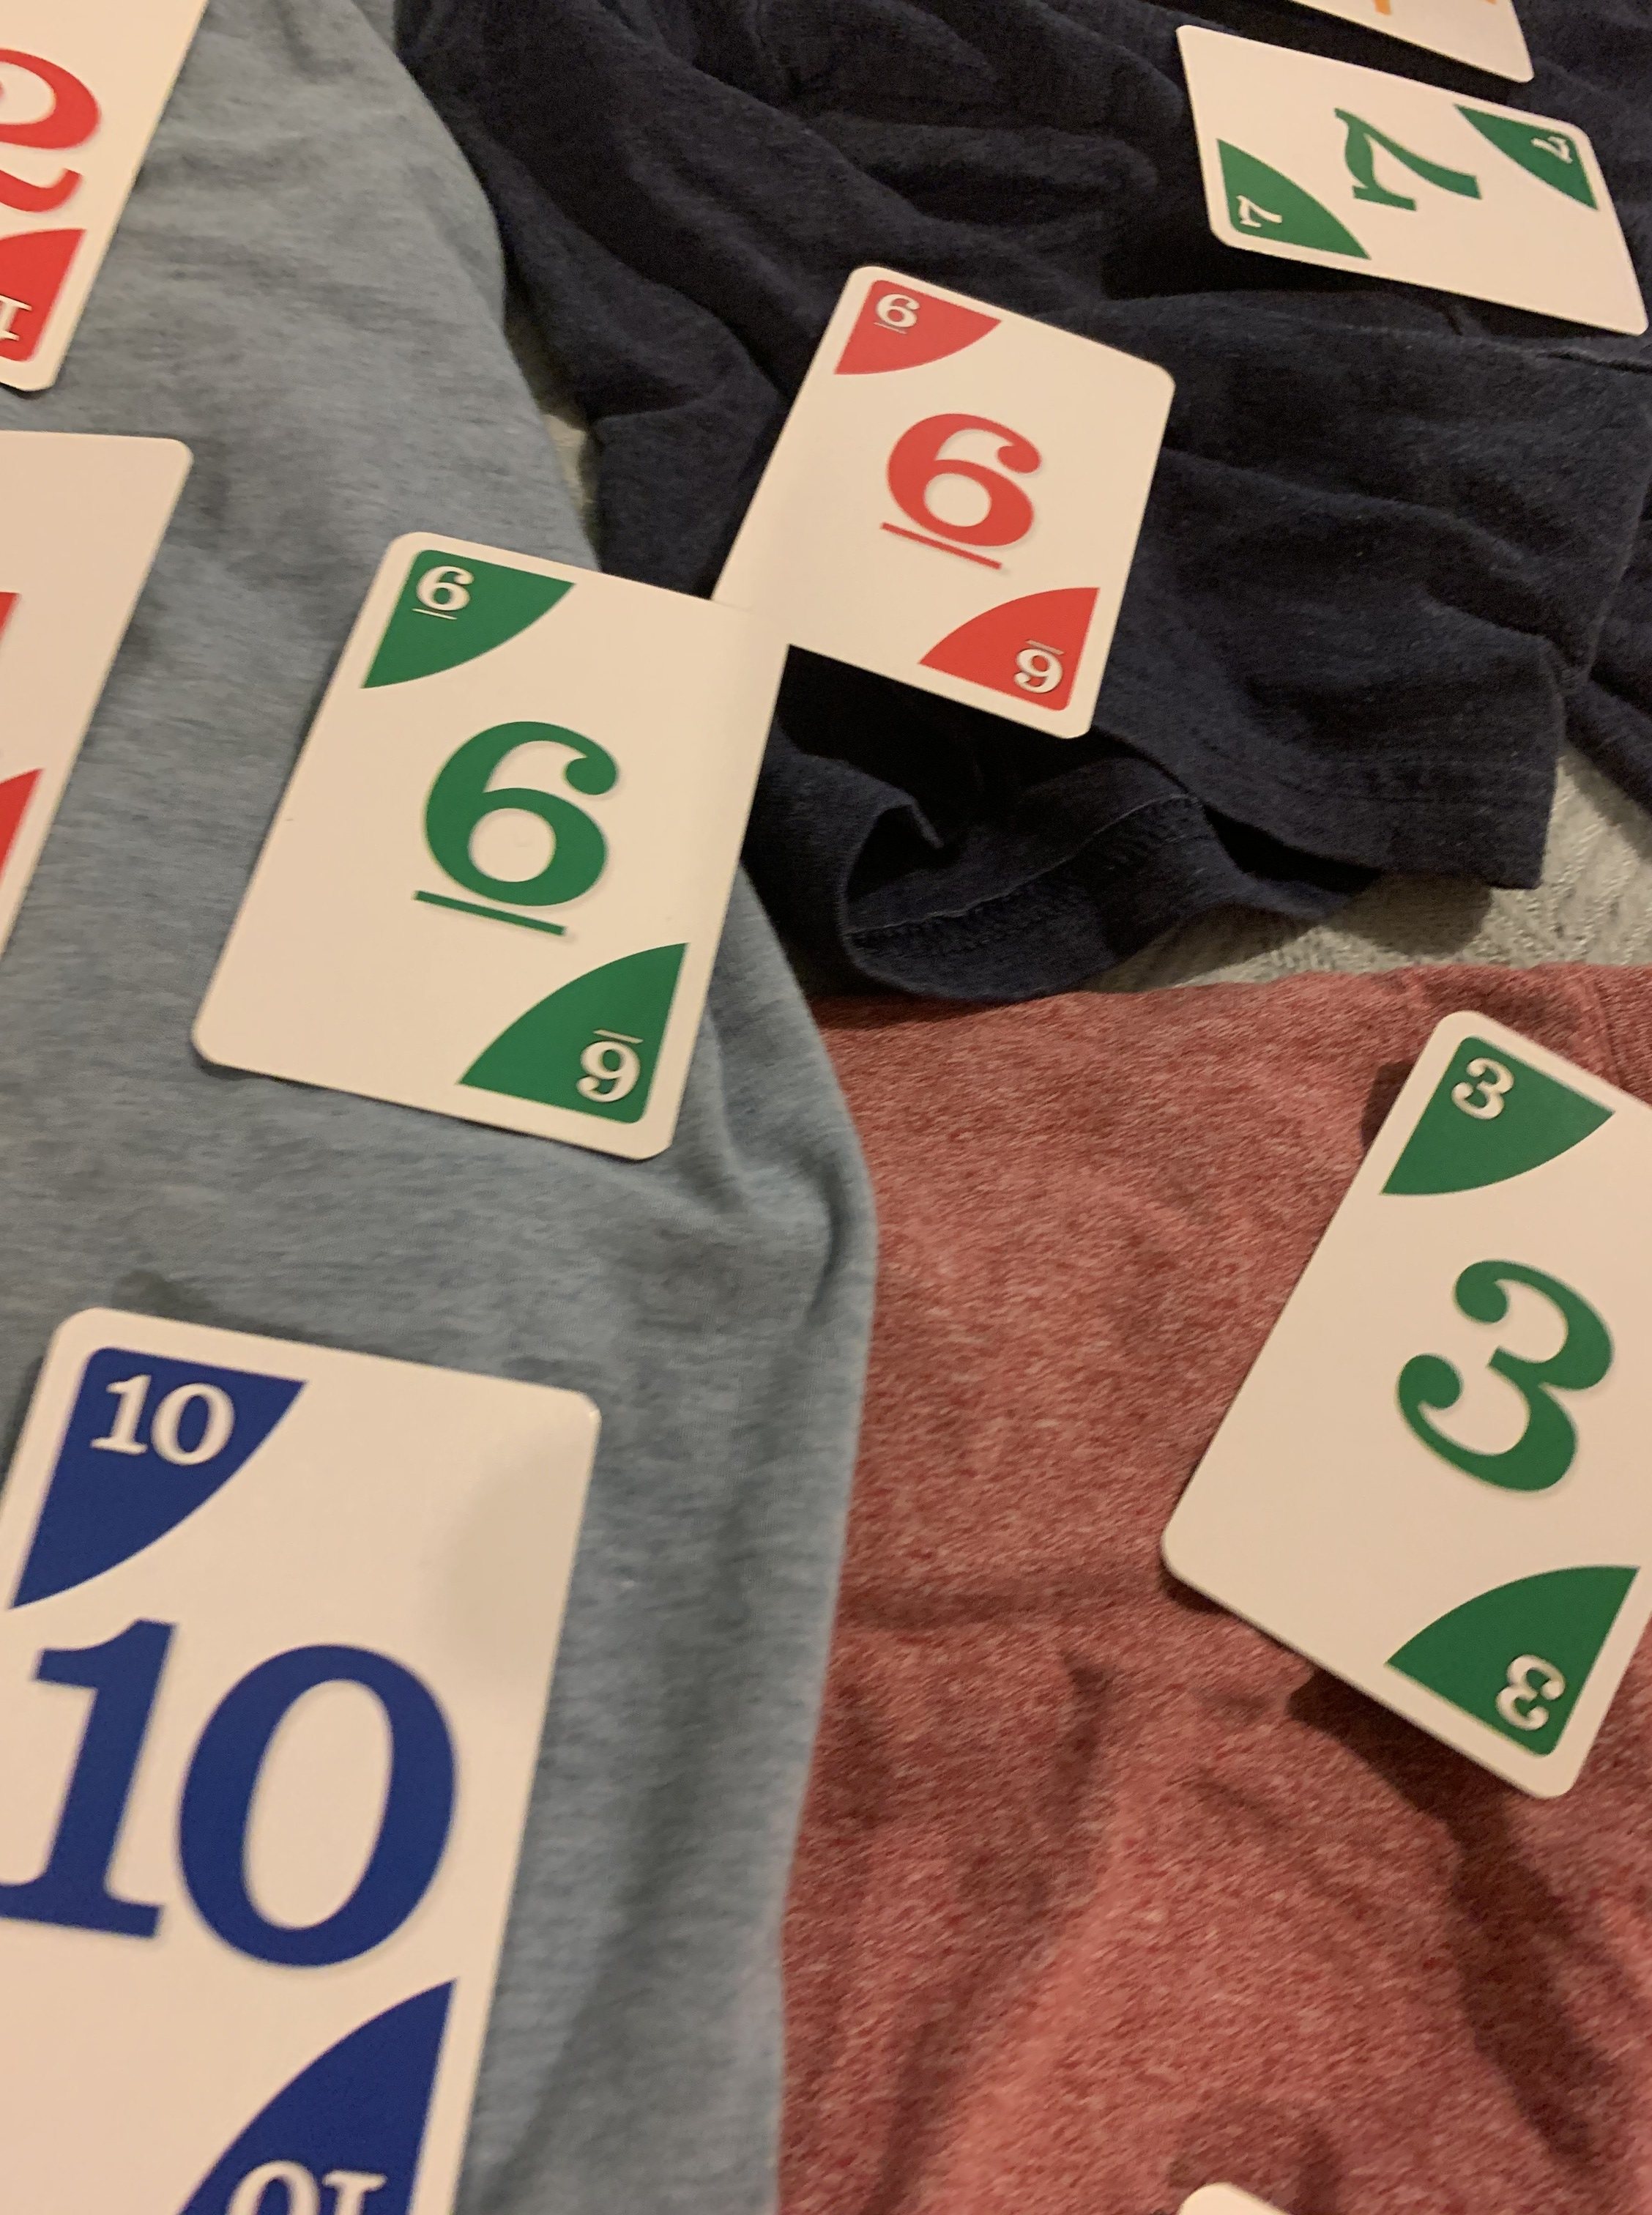six: (179, 528, 802, 1163), (708, 264, 1183, 746)
ten: (10, 1302, 573, 2215)
three: (1150, 1009, 1652, 1802)
